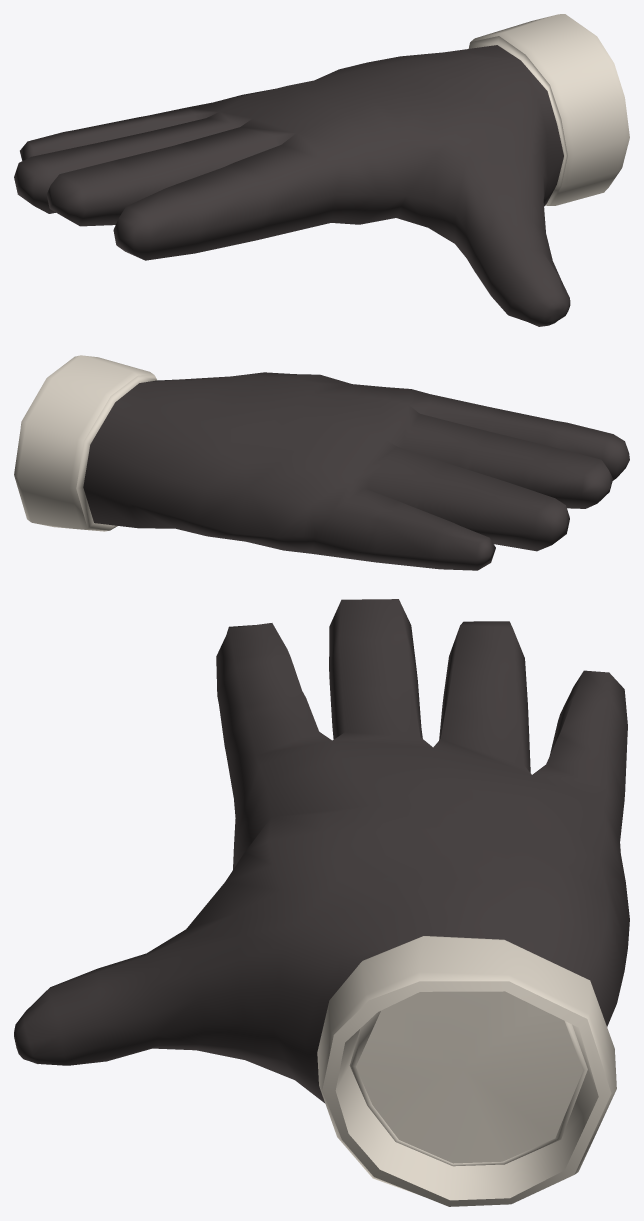
The model's file is Right_Arm_02_01.fbx.
The picture shows the model from 3 angles, top to bottom: view 1: azimuth 30°, elevation 25°; view 2: azimuth 150°, elevation 25°; view 3: azimuth 270°, elevation 25°; orthographic projection. The views are drawn at different scales.
Visible parts, largest first — view 1: Right_Arm_02_01; view 2: Right_Arm_02_01; view 3: Right_Arm_02_01.
Boxes of the visible parts, x1,y1,x2,y2 form: Right_Arm_02_01: (14, 14, 629, 326); Right_Arm_02_01: (14, 355, 629, 570); Right_Arm_02_01: (14, 599, 629, 1206).
Size of the model in its own units: 25.38 by 7.23 by 16.72.
